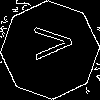V: (25, 25, 72, 61)
